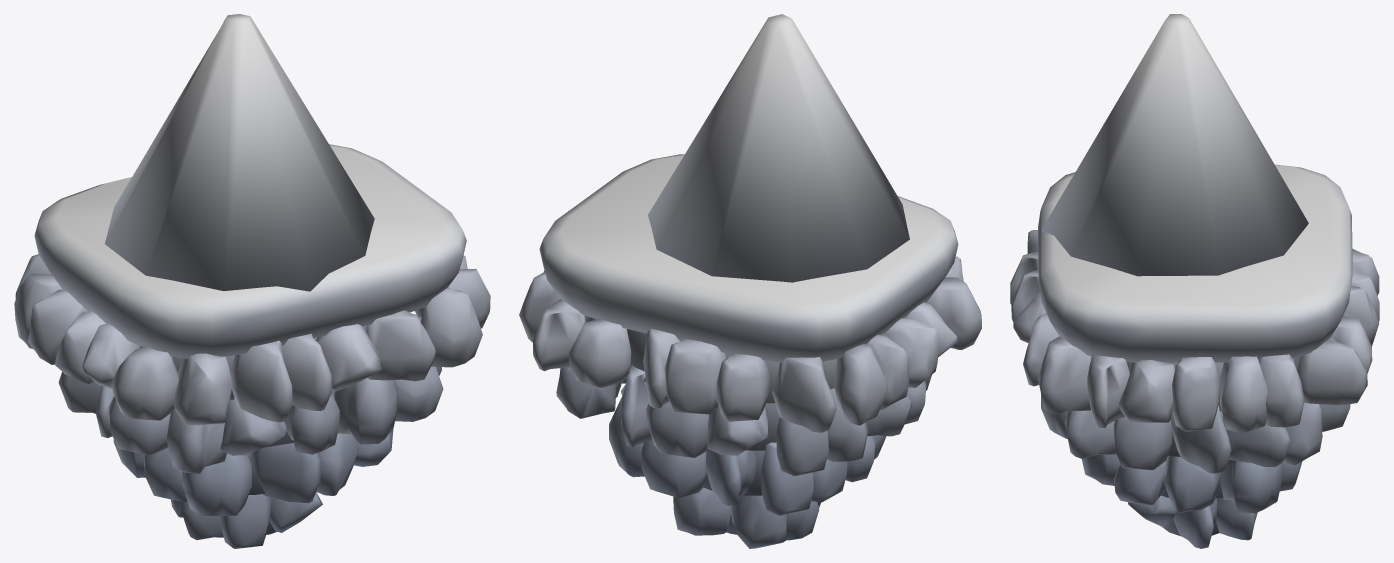
Rendered from far_mountain.glb.
3 renders of one model, left to right at view 1: azimuth 30°, elevation 25°; view 2: azimuth 150°, elevation 25°; view 3: azimuth 270°, elevation 25°, orthographic. The views are drawn at different scales.
Parts seen in each view (by area): view 1: far_mountain; view 2: far_mountain; view 3: far_mountain.
Part boxes in pixels (<box>): far_mountain: <box>14,14,490,548</box>; far_mountain: <box>519,14,981,548</box>; far_mountain: <box>1010,14,1379,548</box>.
Bounding box in the file's own units: 3.62 × 4.68 × 3.17.
